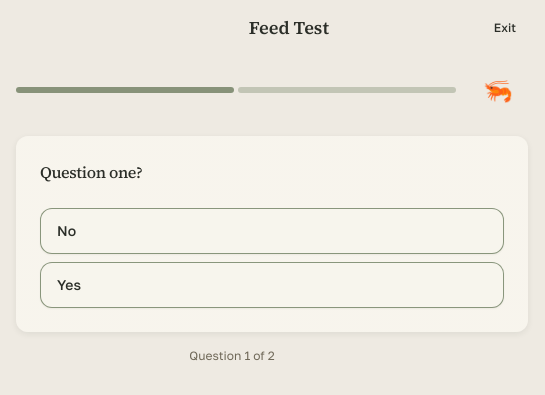
Test: TestDetailPage › feeds the pet once when advancing to the next question
Check: the heading "Question one?" is shown, box [40, 161, 142, 183]
Click the button "Yes". click: [69, 284]
box: [40, 262, 504, 308]
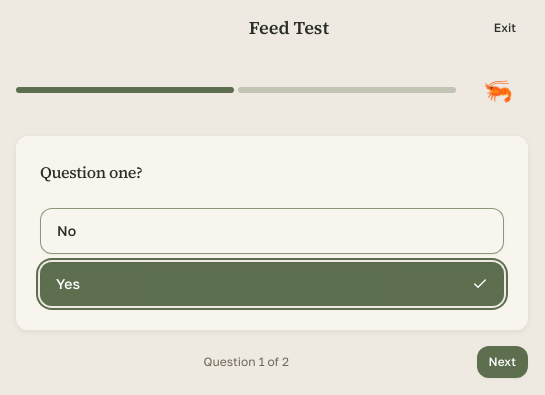
Click the button "Next". click: [502, 362]
box: [476, 346, 528, 378]
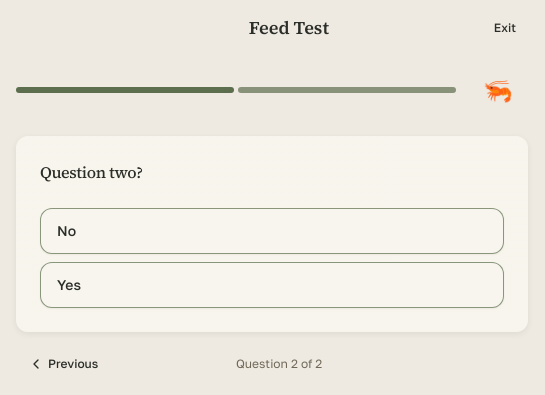
Check: the heading "Question two?" is shown, box [40, 161, 143, 183]
